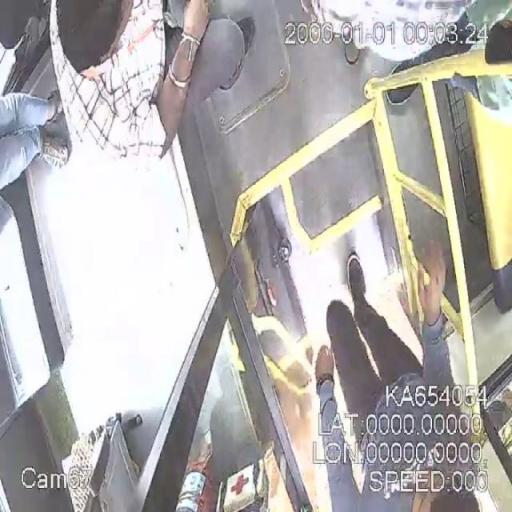persona: (322, 238, 484, 512), (44, 0, 254, 163)
